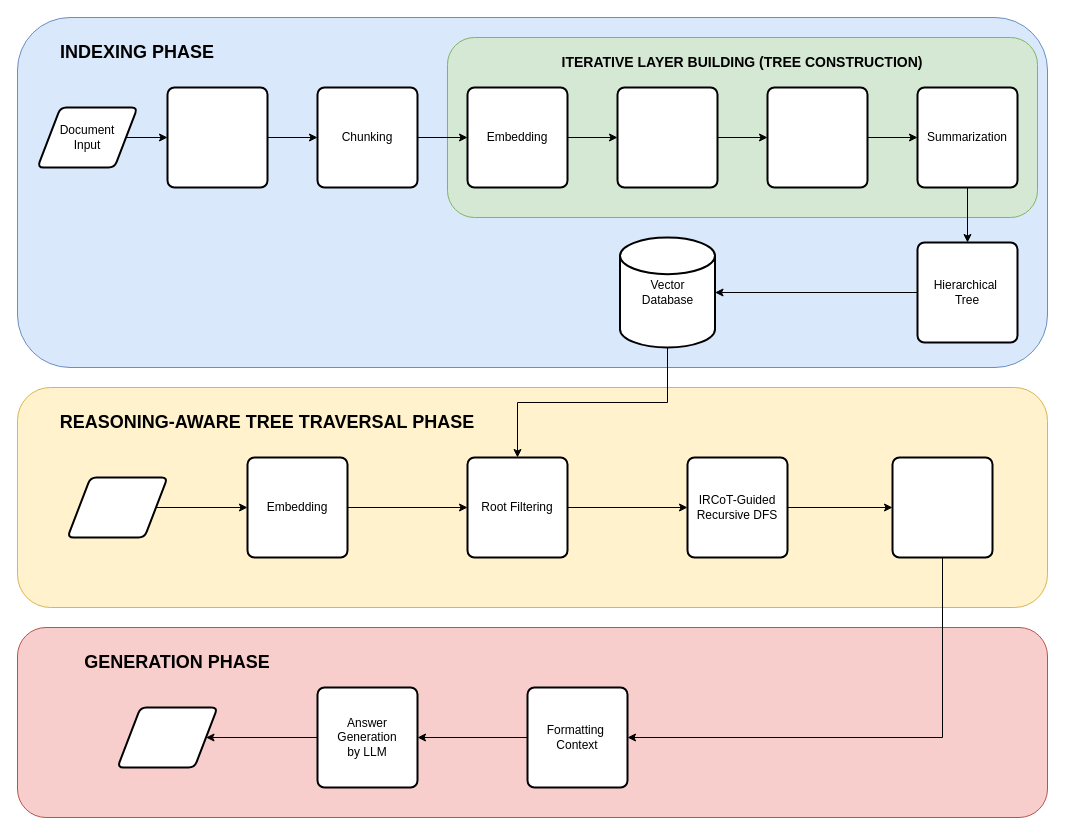
This 1065x835 diagram has some shape labels left out. The centre of each missing label's shape, as x and y in pixels:
"Clustering" goes at (817,137).
"Dimension Reduction" goes at (667,137).
"Output" goes at (167,737).
"Preprocessing" goes at (217,137).
"Retrieved Context" goes at (942,507).
"User Query" goes at (117,507).
